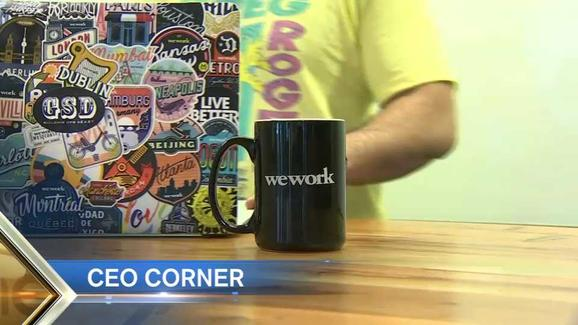wework: (263, 164, 337, 188)
